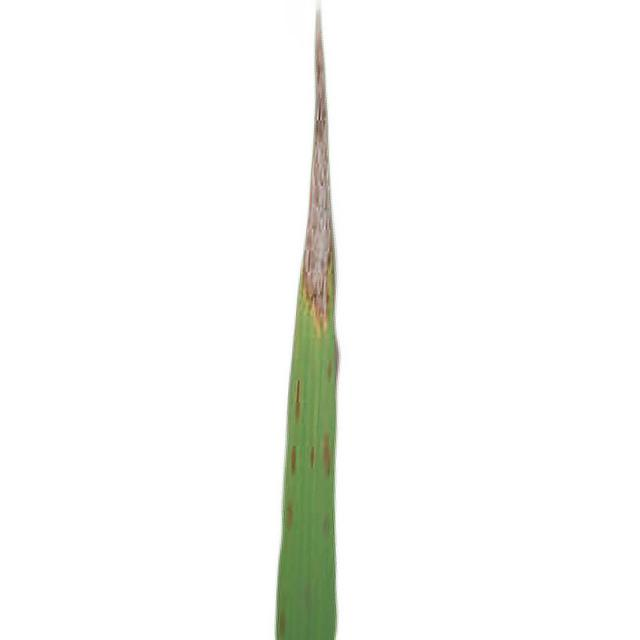Leaf scald: (200, 9, 460, 640)
